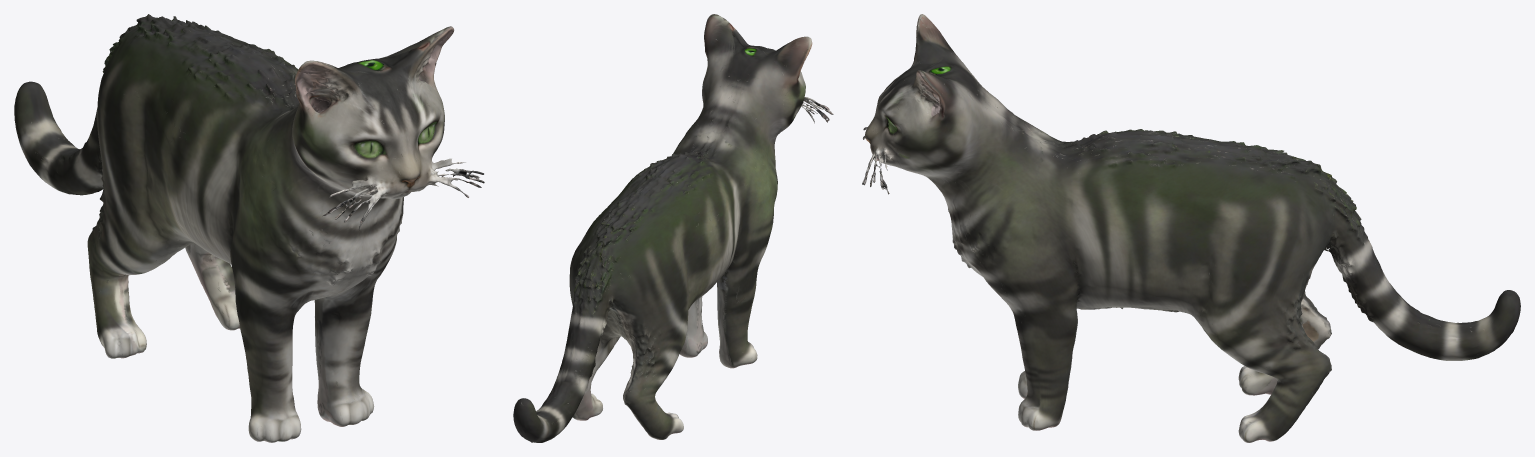
3 views of the same model, side by side, from view 1: azimuth 30°, elevation 25°; view 2: azimuth 150°, elevation 25°; view 3: azimuth 270°, elevation 25° (orthographic). The views are drawn at different scales.
Visible parts, largest first — view 1: Mesh1.0; view 2: Mesh1.0; view 3: Mesh1.0.
Part boxes in pixels (box(x1,y1,x2,y2)): Mesh1.0: box(14, 14, 484, 442); Mesh1.0: box(513, 14, 833, 442); Mesh1.0: box(862, 14, 1520, 442).
Size of the model in its own units: 44.82 by 119 by 191.
Materials: 1 (1 with a texture image).
